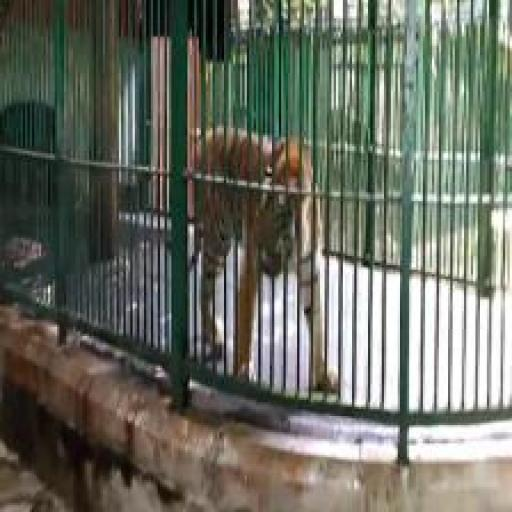Tiger: (185, 126, 356, 388)
